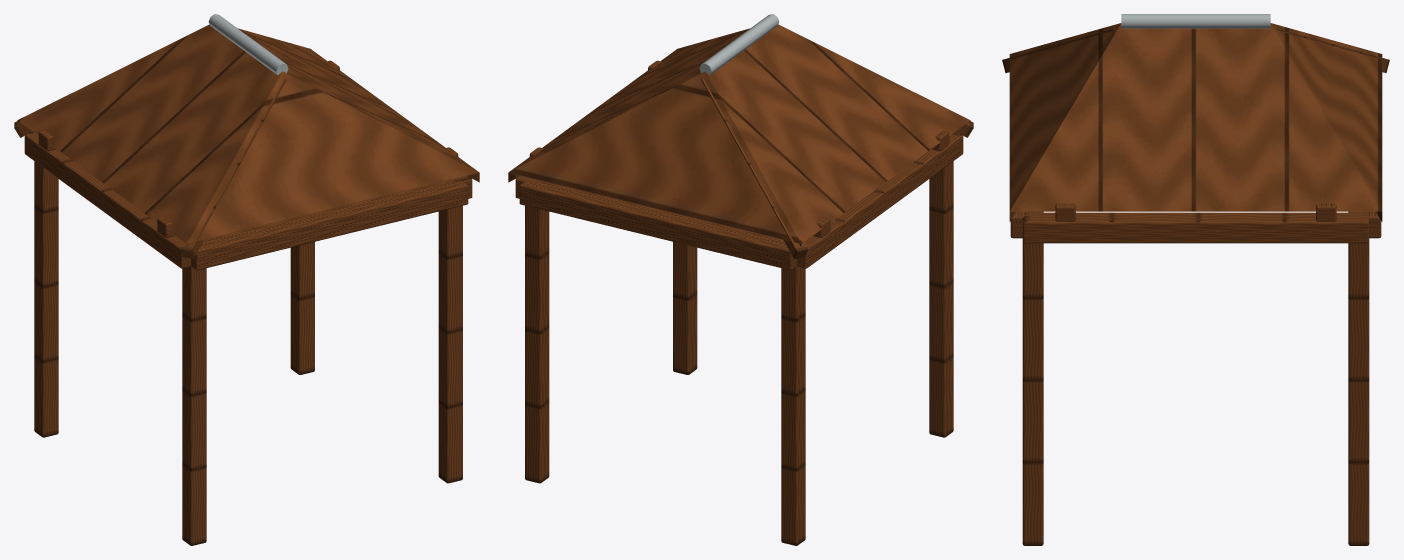
The model's file is rural-scavenging-settlements-village-well-canopy-a5855a69__26522.glb.
The picture shows the model from 3 angles, left to right: view 1: azimuth 30°, elevation 25°; view 2: azimuth 150°, elevation 25°; view 3: azimuth 270°, elevation 25°; orthographic projection. The views are drawn at different scales.
Parts seen in each view (by area): view 1: village-well-canopy; view 2: village-well-canopy; view 3: village-well-canopy.
Boxes of the visible parts, bbox=[...] form: village-well-canopy: bbox=[14, 14, 479, 545]; village-well-canopy: bbox=[508, 14, 973, 545]; village-well-canopy: bbox=[1002, 14, 1389, 545].
Size of the model in its own units: 2.19 by 2.92 by 2.24.
2 materials, 1 textured.
